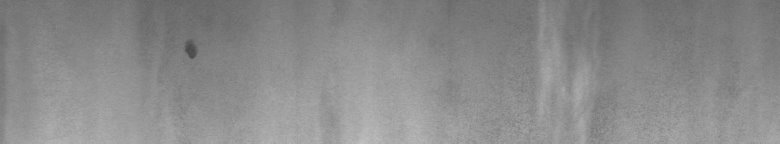fi: (180, 36, 200, 67)
